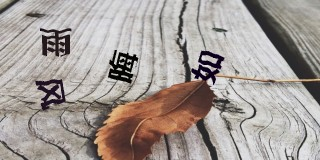如: (191, 50, 224, 86)
晦: (107, 50, 138, 84)
雨: (39, 26, 71, 56)
风: (34, 78, 66, 111)
